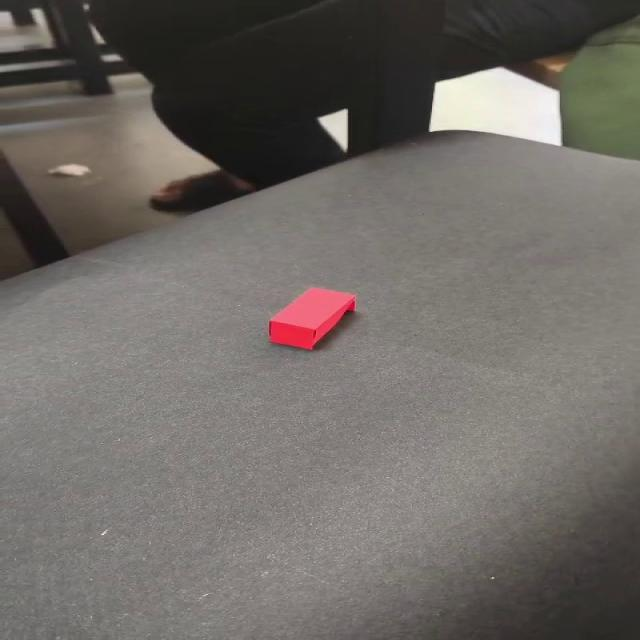red block: (267, 286, 356, 350)
